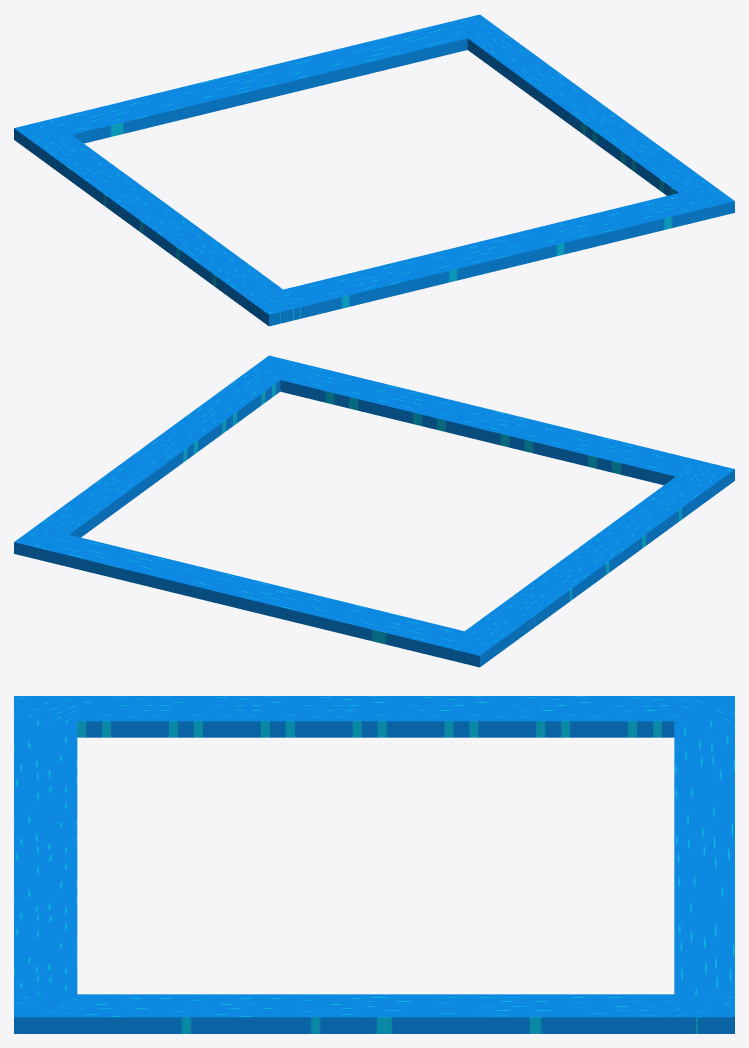
The model's file is RiverLoop.fbx.
3 renders of one model, top to bottom at view 1: azimuth 30°, elevation 25°; view 2: azimuth 150°, elevation 25°; view 3: azimuth 270°, elevation 25°, orthographic. The views are drawn at different scales.
Parts seen in each view (by area): view 1: pCube1; view 2: pCube1; view 3: pCube1.
Boxes of the visible parts, left/top/right/bottom form: pCube1: left=14, top=14, right=734, bottom=326; pCube1: left=14, top=355, right=734, bottom=667; pCube1: left=14, top=696, right=734, bottom=1033.
Bounding box in the file's own units: 18.48 × 0.4404 × 17.52.
Materials: 1 (1 with a texture image).
